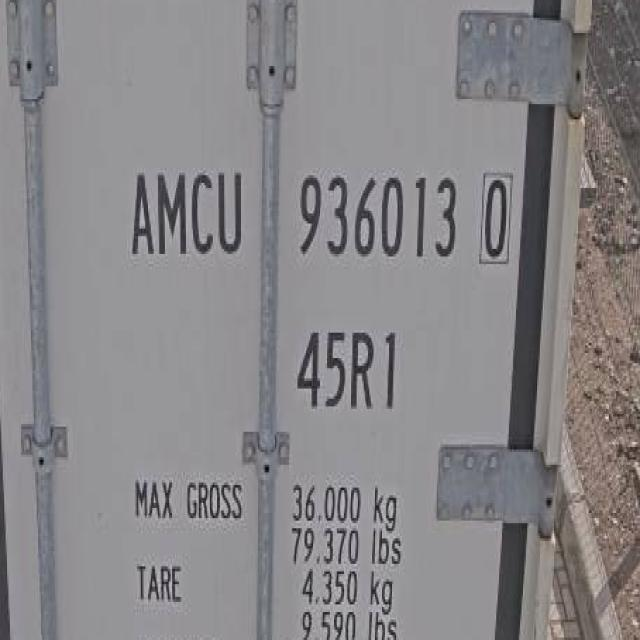dv: (472, 162, 516, 271)
owner: (125, 160, 246, 269)
serial: (292, 162, 459, 276)
size: (289, 315, 403, 423)
